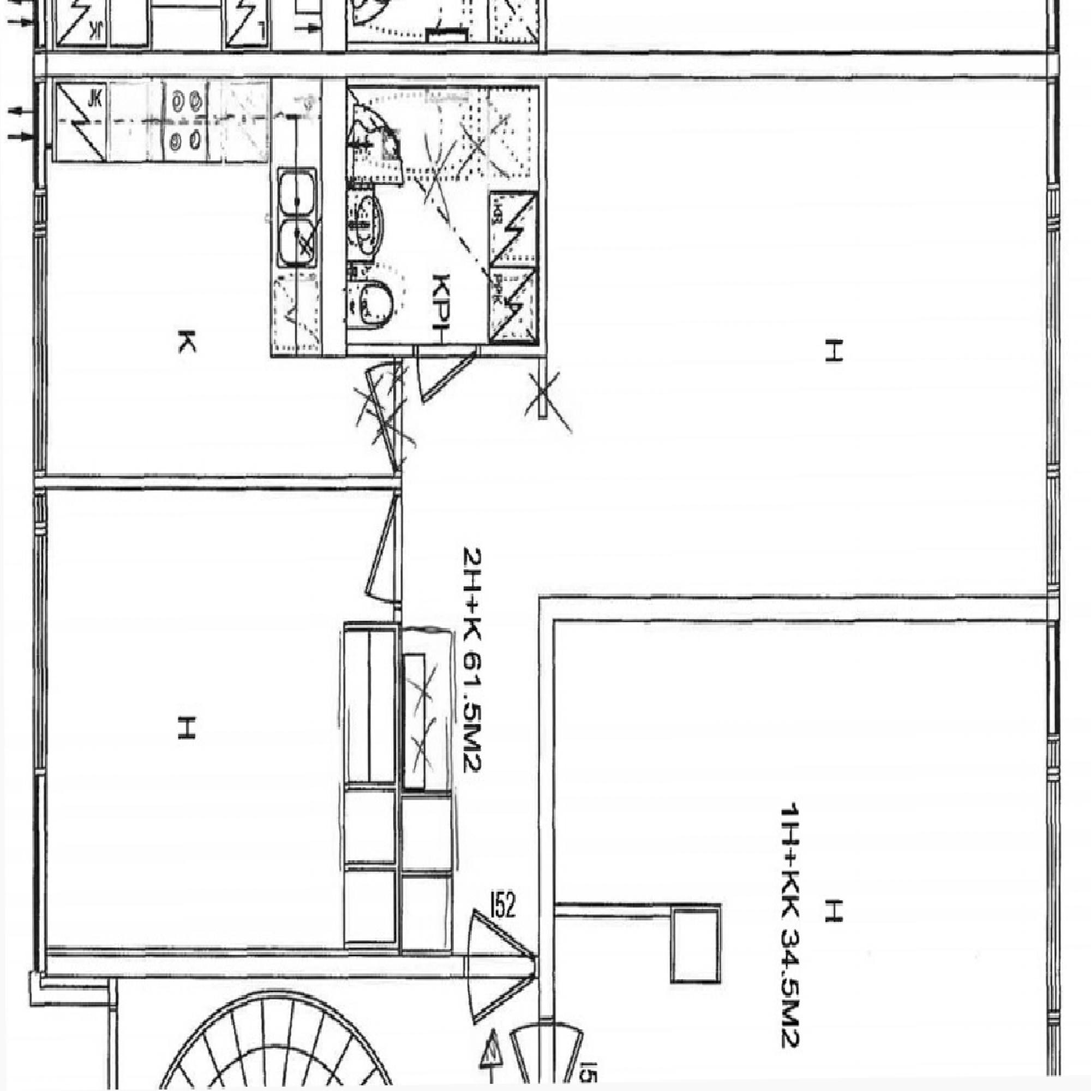wall: (34, 52, 1060, 74), (34, 52, 47, 978), (34, 956, 552, 978), (539, 598, 1060, 619), (321, 52, 346, 358), (1047, 52, 1060, 619), (47, 474, 403, 490), (539, 598, 553, 978), (321, 345, 547, 358), (539, 52, 547, 358), (394, 474, 403, 619)
